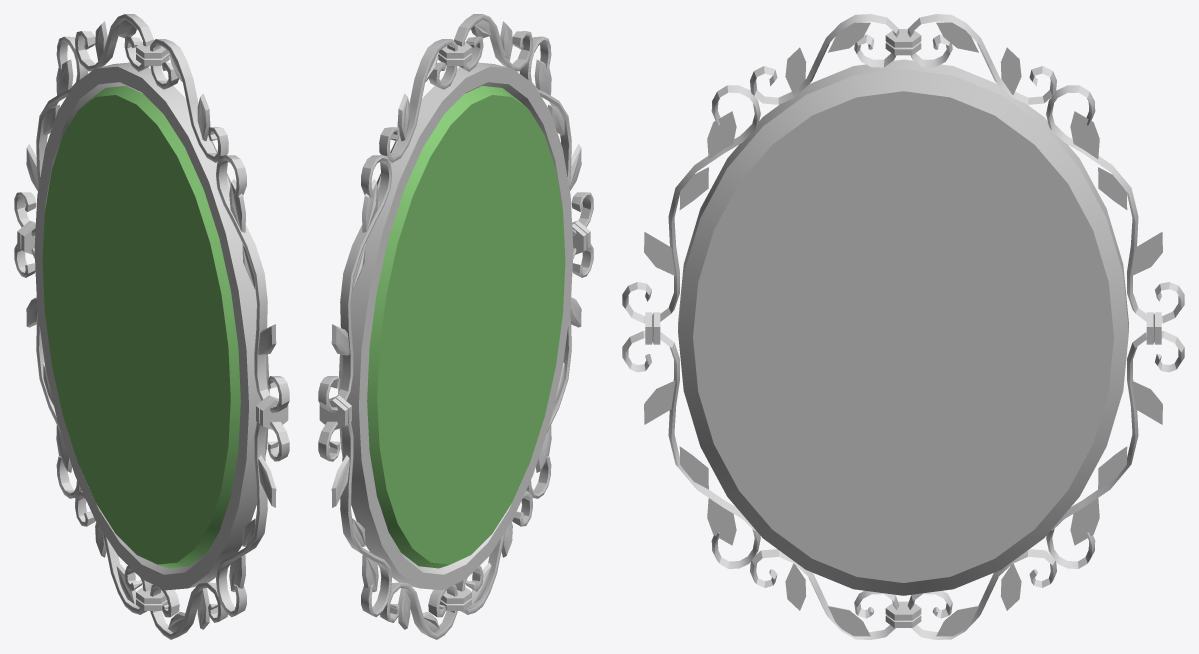
The model's file is MirrorSide.FBX.
3 views of the same model, side by side, from view 1: azimuth 30°, elevation 25°; view 2: azimuth 150°, elevation 25°; view 3: azimuth 270°, elevation 25° (orthographic). The views are drawn at different scales.
Visible parts, largest first — view 1: MirrorSide; view 2: MirrorSide; view 3: MirrorSide.
Part boxes in pixels (x1,y1,x2,y2): MirrorSide: [14, 14, 289, 639]; MirrorSide: [318, 14, 593, 639]; MirrorSide: [622, 14, 1184, 639].
Size of the model in its own units: 4.62 by 64.68 by 79.2.
